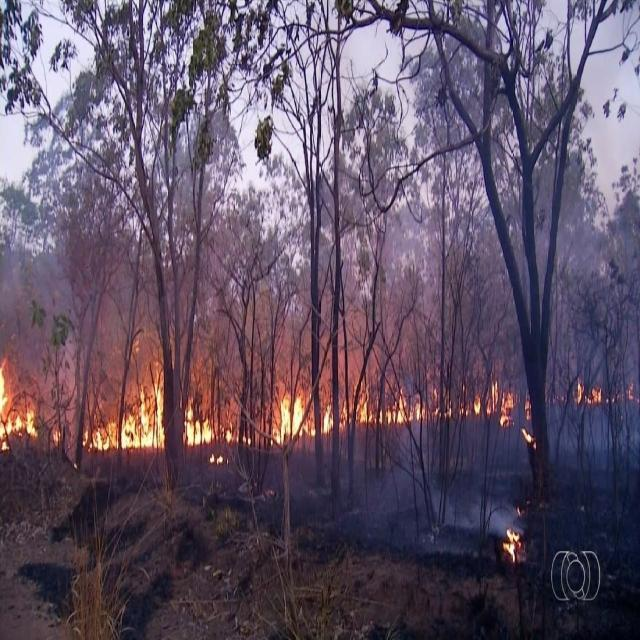Fire: (323, 379, 452, 437), (82, 369, 166, 452), (182, 396, 250, 466), (0, 356, 38, 454), (458, 378, 514, 430), (270, 392, 316, 446), (572, 375, 602, 407), (520, 397, 536, 451), (502, 527, 520, 564)
Smoke: (337, 219, 640, 538)
